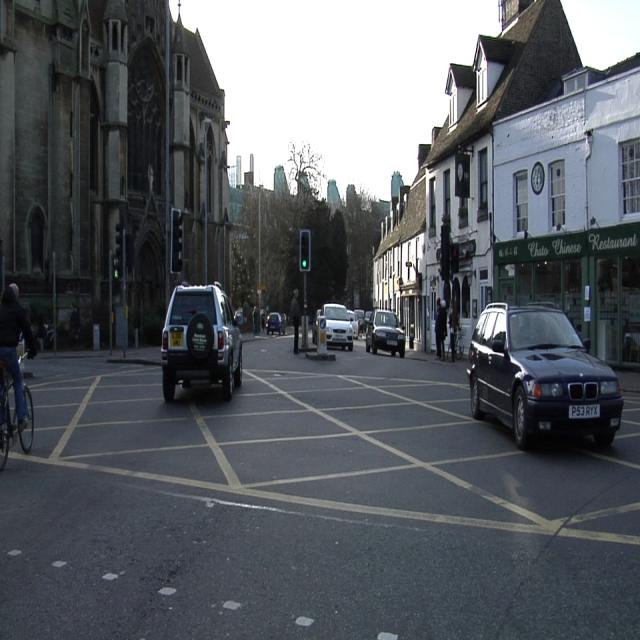Bicyclist: (1, 283, 36, 470)
Building: (411, 0, 582, 352), (1, 2, 166, 341), (493, 52, 639, 366), (231, 140, 381, 311), (167, 3, 228, 292), (374, 146, 427, 347)
Car: (469, 304, 623, 448), (161, 284, 242, 399), (366, 311, 404, 356), (319, 305, 353, 350), (267, 313, 286, 334)
Road: (3, 336, 639, 623)
Tree: (287, 140, 330, 306), (286, 137, 325, 208)
